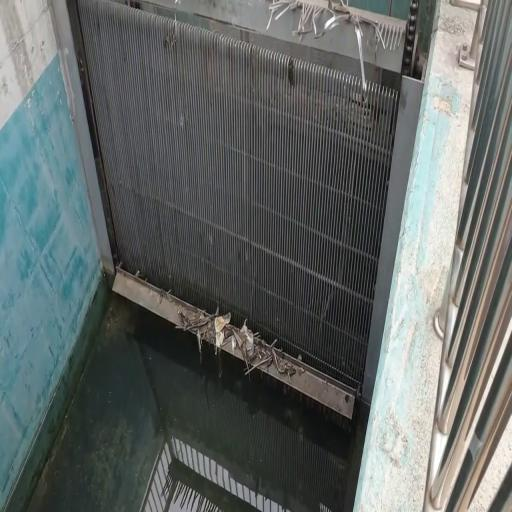rake_broken: (261, 0, 384, 105)
